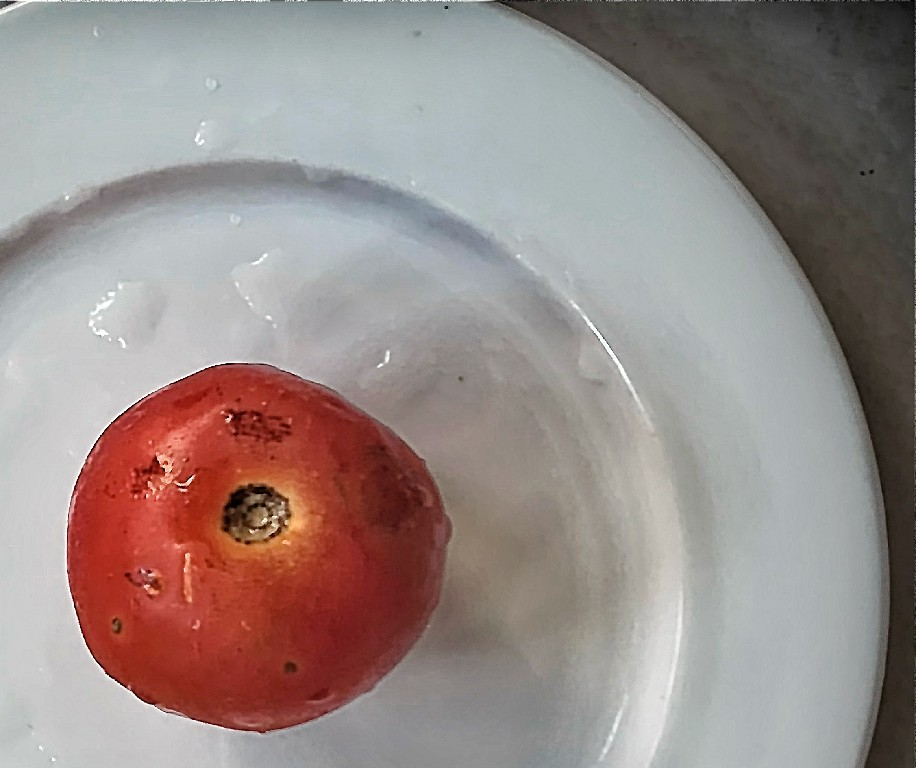NG: (60, 358, 453, 742)
